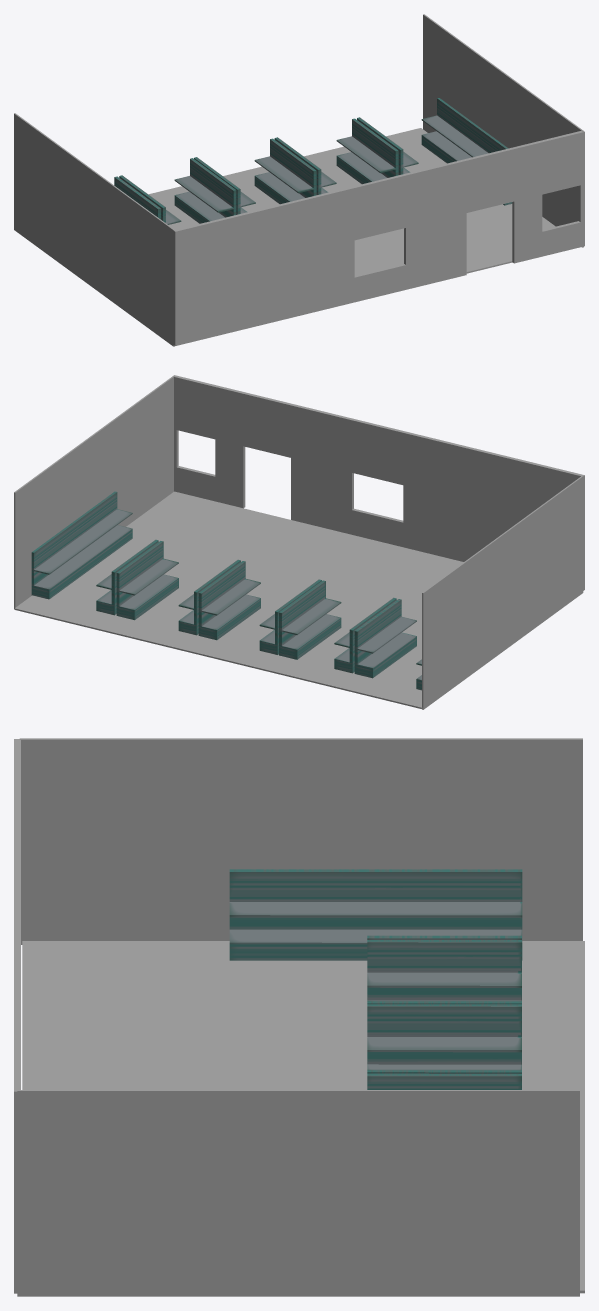
Rendered from SceneNoItems.fbx.
3 renders of one model, top to bottom at view 1: azimuth 30°, elevation 25°; view 2: azimuth 150°, elevation 25°; view 3: azimuth 270°, elevation 25°, orthographic. The views are drawn at different scales.
Visible parts, largest first — view 1: Front_Wall, polySurface3, polySurface1, polySurface4, Shelf71, Shelf66, Shelf64, Shelf65, Shelf62, Shelf69, Shelf70, Shelf68 (+1 smaller); view 2: polySurface4, Front_Wall, polySurface3, polySurface1, Shelf71, Shelf65, Shelf66, Shelf62, Shelf64, Shelf67, Shelf70, Shelf69 (+1 smaller); view 3: polySurface1, polySurface3, polySurface4, Shelf41, Shelf68, Shelf67, Front_Wall, Shelf69, Shelf62, Shelf64, Shelf65.
Boxes of the visible parts, left/top/right/bottom form: Front_Wall: left=173, top=130, right=584, bottom=345; polySurface3: left=14, top=113, right=174, bottom=346; polySurface1: left=423, top=14, right=583, bottom=247; polySurface4: left=148, top=128, right=555, bottom=275; Shelf71: left=421, top=98, right=512, bottom=205; Shelf66: left=336, top=118, right=398, bottom=184; Shelf64: left=174, top=158, right=236, bottom=223; Shelf65: left=254, top=138, right=316, bottom=204; Shelf62: left=114, top=176, right=160, bottom=219; Shelf69: left=274, top=137, right=336, bottom=194; Shelf70: left=357, top=117, right=418, bottom=174; Shelf68: left=194, top=157, right=255, bottom=214; polySurface4: left=14, top=491, right=463, bottom=708; Front_Wall: left=174, top=375, right=584, bottom=590; polySurface3: left=422, top=476, right=583, bottom=709; polySurface1: left=14, top=375, right=174, bottom=609; Shelf71: left=31, top=491, right=132, bottom=599; Shelf65: left=198, top=561, right=260, bottom=640; Shelf66: left=116, top=541, right=178, bottom=620; Shelf62: left=354, top=599, right=416, bottom=678; Shelf64: left=279, top=580, right=341, bottom=659; Shelf67: left=334, top=597, right=396, bottom=673; Shelf70: left=96, top=539, right=158, bottom=615; Shelf69: left=178, top=559, right=240, bottom=635; polySurface1: left=17, top=1090, right=579, bottom=1296; polySurface3: left=19, top=738, right=582, bottom=944; polySurface4: left=22, top=941, right=584, bottom=1293; Shelf41: left=229, top=869, right=522, bottom=960; Shelf68: left=367, top=1004, right=521, bottom=1069; Shelf67: left=367, top=940, right=521, bottom=1000; Front_Wall: left=14, top=739, right=20, bottom=1293; Shelf69: left=367, top=1073, right=521, bottom=1089; Shelf62: left=367, top=935, right=521, bottom=939; Shelf64: left=367, top=1000, right=521, bottom=1004; Shelf65: left=367, top=1069, right=521, bottom=1073.
Size of the model in its own units: 1829 by 497 by 1251.
2 materials, 1 textured.
